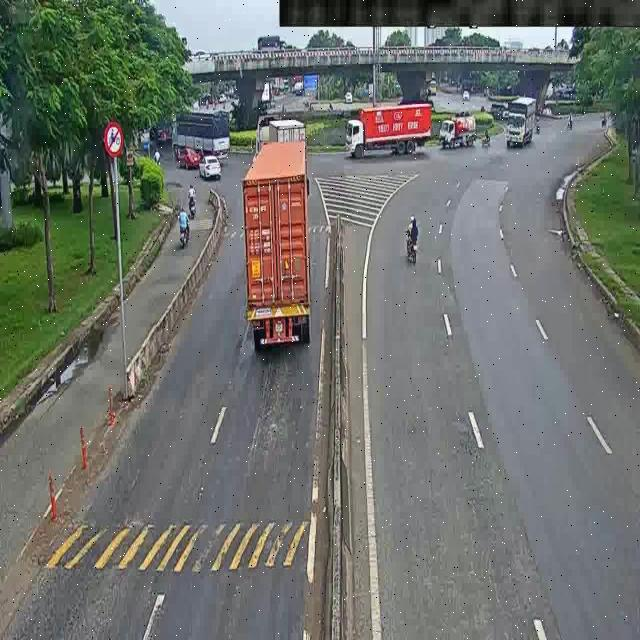car: (198, 155, 227, 184), (180, 145, 197, 177)
motorbike: (392, 206, 441, 275), (173, 213, 201, 251), (176, 180, 197, 224), (563, 107, 584, 138), (477, 125, 495, 150)
truck: (238, 141, 330, 354), (339, 104, 442, 164), (167, 105, 234, 154), (250, 112, 309, 163), (434, 107, 483, 156), (505, 96, 538, 147)
